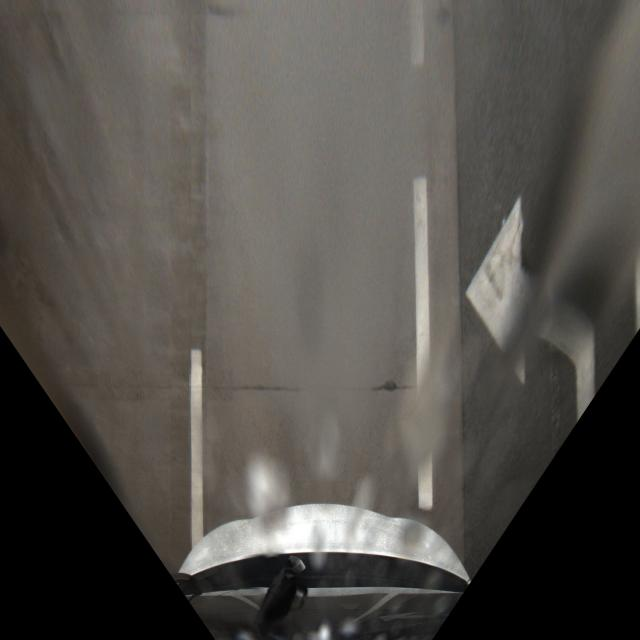left: (415, 194, 640, 425)
